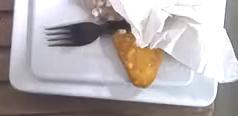hash: (112, 29, 162, 87)
